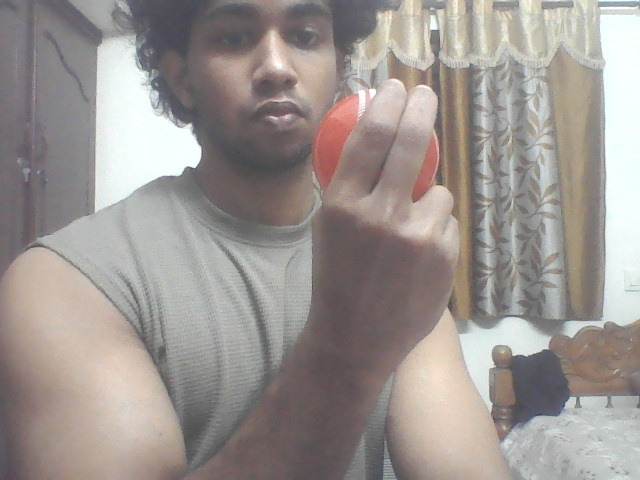cricket_ball: (314, 86, 447, 200)
